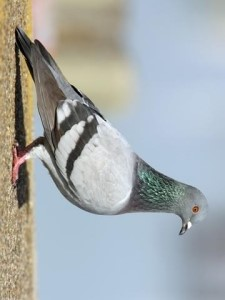pigeon: (10, 23, 210, 238)
